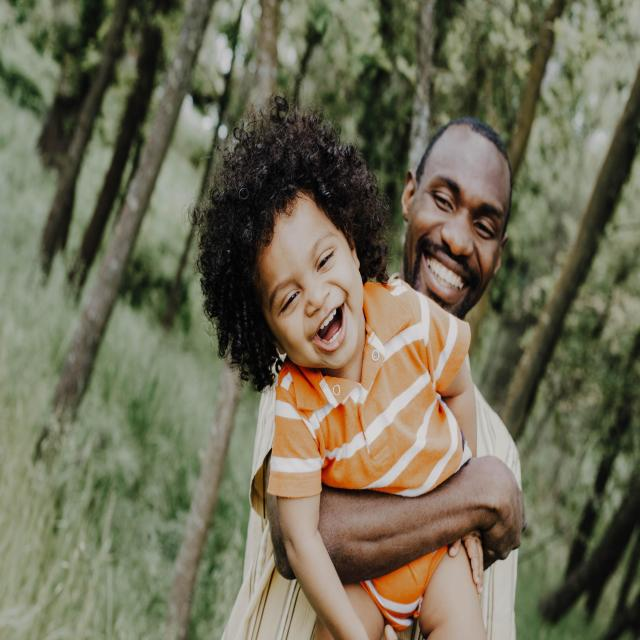sem_oculos: (240, 222, 382, 327), (418, 167, 516, 255)
